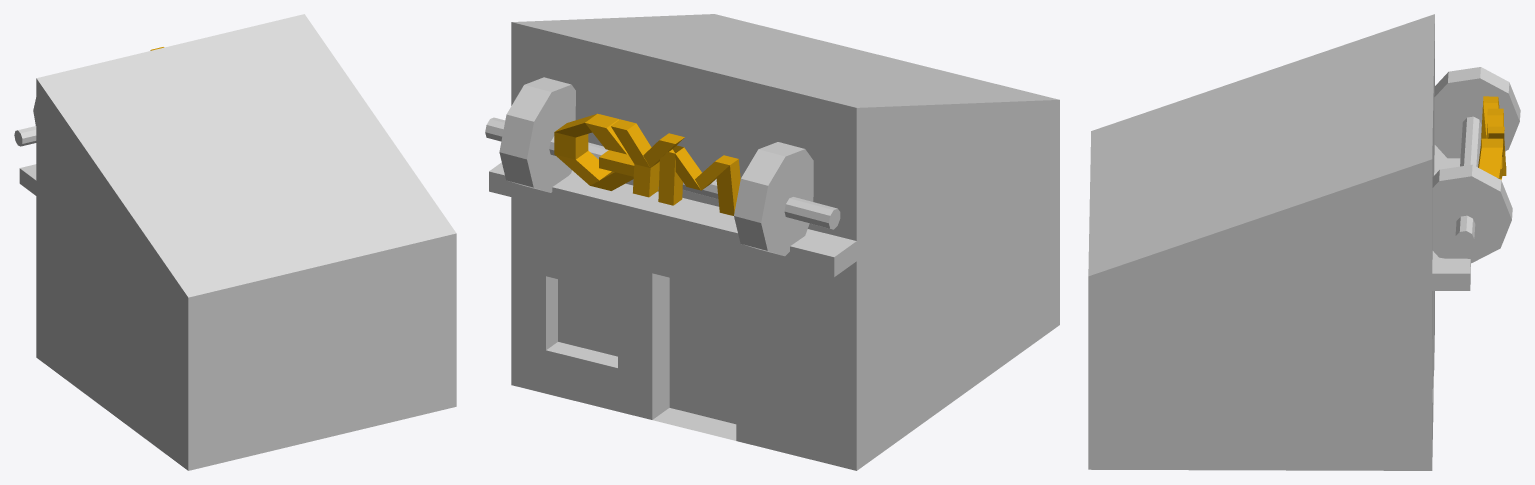
Rendered from gym.glb.
3 renders of one model, left to right at view 1: azimuth 30°, elevation 25°; view 2: azimuth 150°, elevation 25°; view 3: azimuth 270°, elevation 25°, orthographic. The views are drawn at different scales.
Visible parts, largest first — view 1: main_building; view 2: main_building, lettering, door, weight.r, weight.l, bar; view 3: main_building, weight.l, weight.r, lettering, bar.
Part boxes in pixels (left/top/right/bottom): main_building: left=19, top=14, right=456, bottom=470; main_building: left=489, top=14, right=1059, bottom=470; lettering: left=554, top=113, right=740, bottom=215; door: left=669, top=278, right=736, bottom=424; weight.r: left=734, top=142, right=813, bottom=256; weight.l: left=499, top=77, right=575, bottom=192; bar: left=485, top=117, right=840, bottom=229; main_building: left=1088, top=14, right=1470, bottom=470; weight.l: left=1432, top=164, right=1512, bottom=263; weight.r: left=1434, top=67, right=1520, bottom=158; lettering: left=1478, top=96, right=1506, bottom=179; bar: left=1455, top=116, right=1481, bottom=247.
Bounding box in the file's own units: 2.03 × 2 × 2.51.
